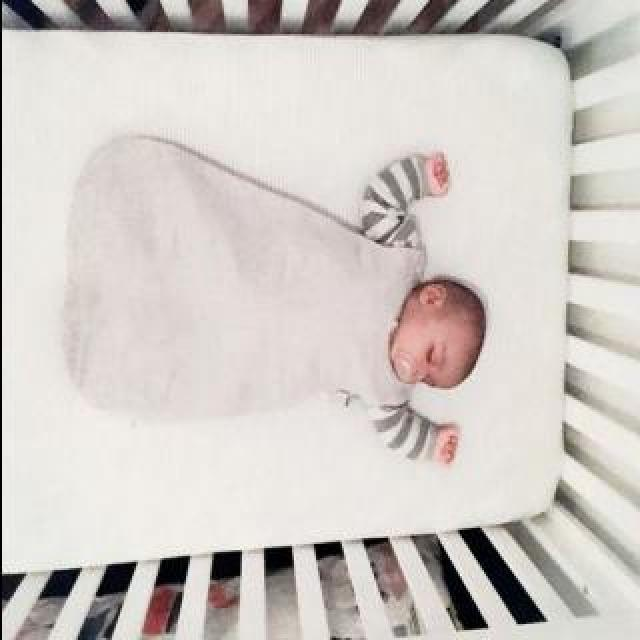baby: (119, 149, 491, 477)
